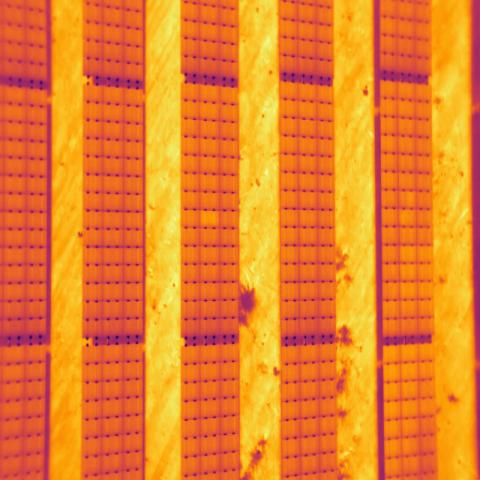fault: (200, 210, 220, 229)
